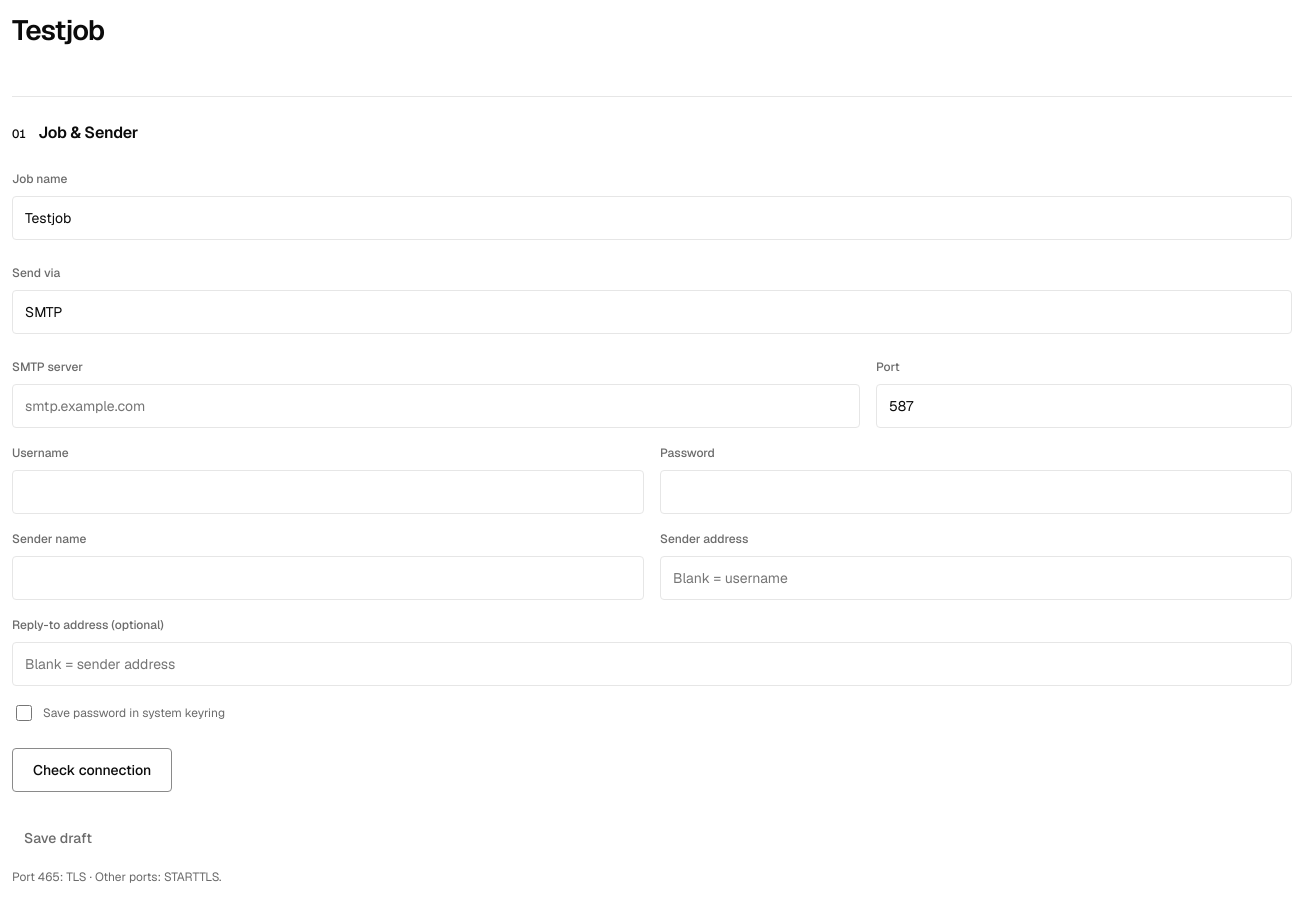
Test: error reporting › shows structured SMTP details, remediation and matching log ID
Step 1. Click the button "Check connection" → (92,770), box [12,748,172,792]
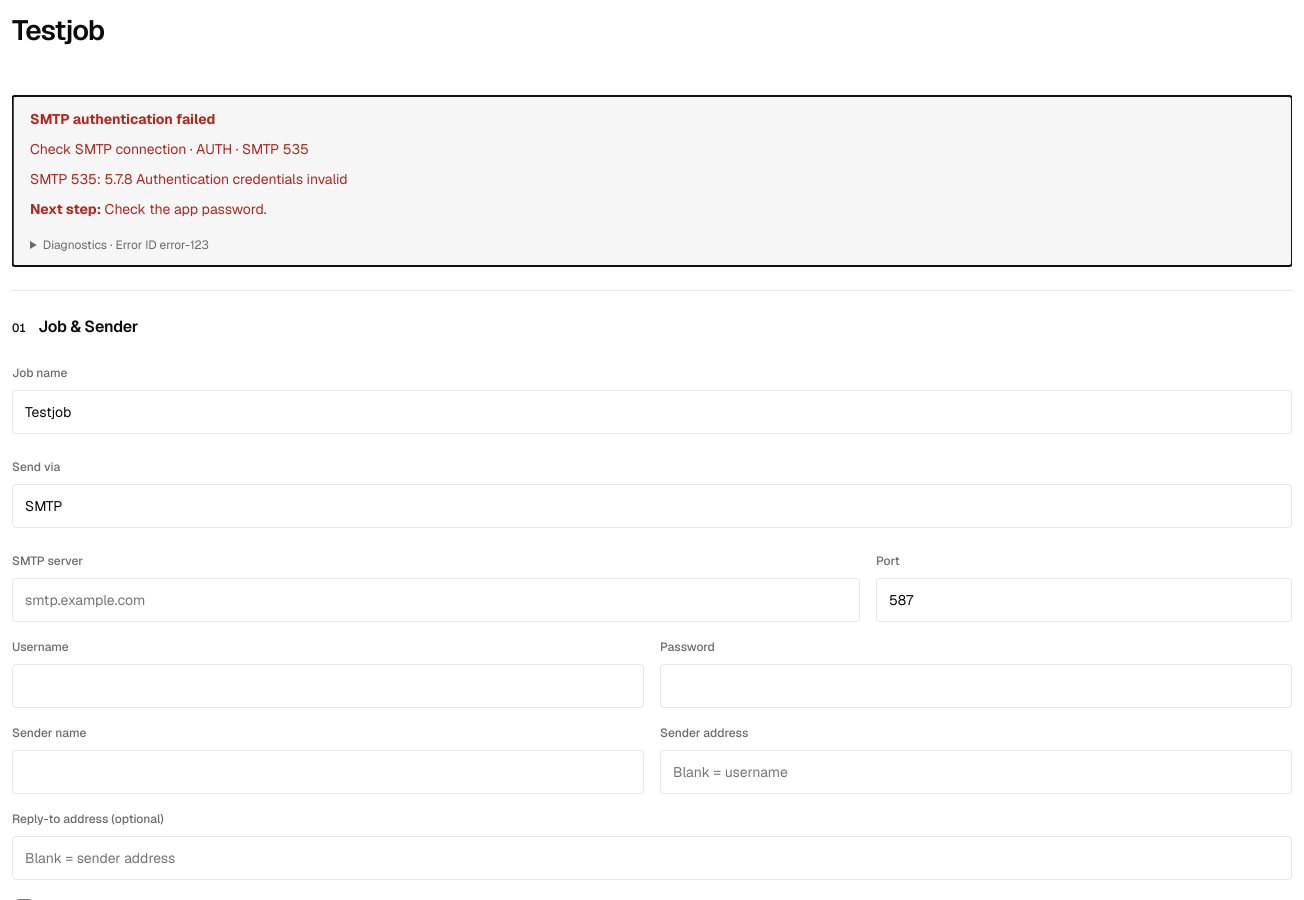
Now the message shows "5.7.8 Authentication credentials invalid", box [30,170,348,188]
Now the message shows "Check the app password.", box [101,200,266,218]
Now the message shows "error-123", box [43,237,209,253]
